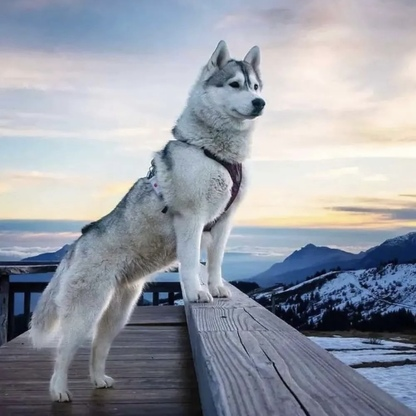husky: (25, 35, 270, 406)
